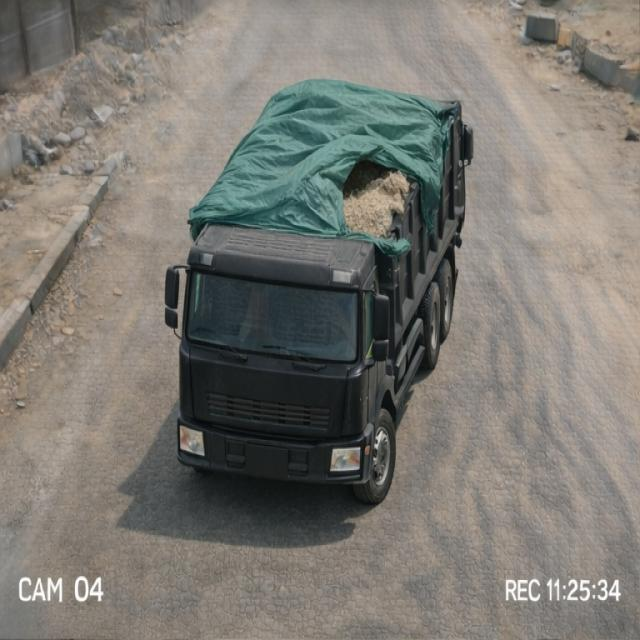trailer: (194, 78, 462, 230)
truck: (164, 65, 478, 480)
